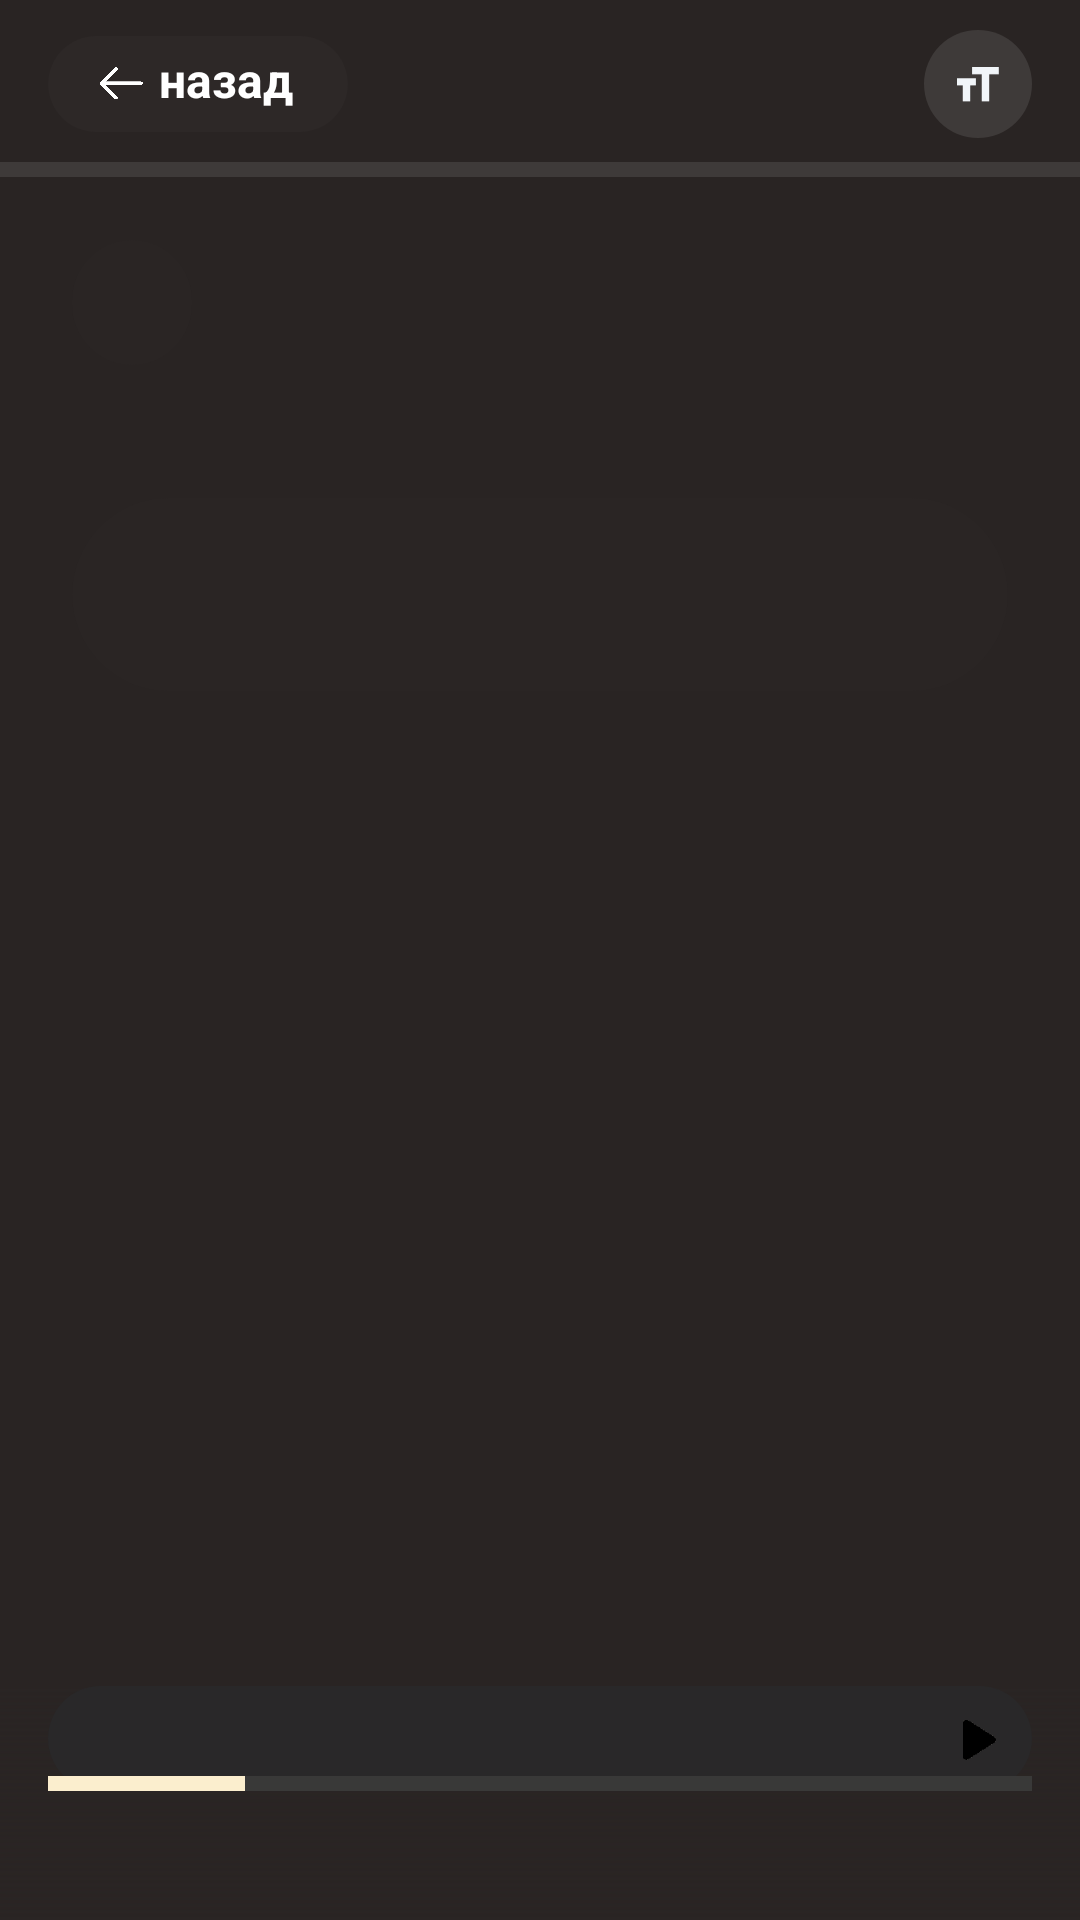

Icon bounding boxes for this 1080w x 1920h phone screenshot, format (x1, y1, x2, y2):
back: (100, 67, 143, 99)
font size: (957, 67, 999, 102)
